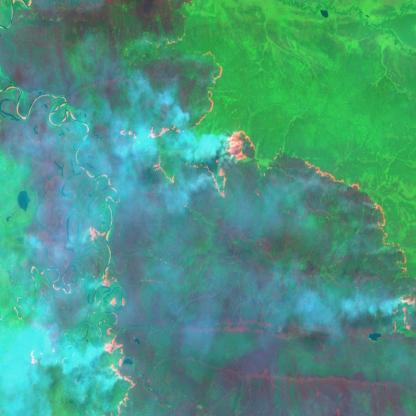fire: (118, 33, 260, 202), (299, 156, 416, 337), (84, 216, 138, 416), (28, 339, 48, 370)
